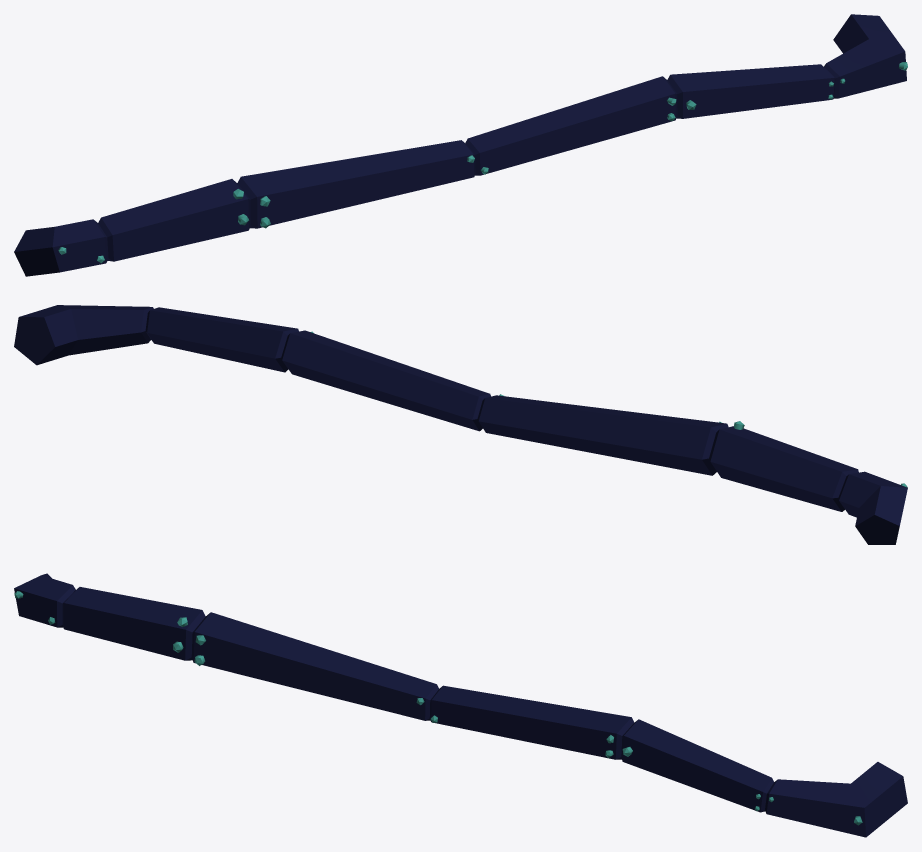
Rendered from MDL_Tuberia.FBX.
The picture shows the model from 3 angles, top to bottom: view 1: azimuth 30°, elevation 25°; view 2: azimuth 150°, elevation 25°; view 3: azimuth 330°, elevation 25°; orthographic projection.
Parts seen in each view (by area): view 1: Line002; view 2: Line002; view 3: Line002.
Part boxes in pixels (x1,y1,x2,y2): Line002: (14,14,907,276); Line002: (14,305,907,544); Line002: (14,573,907,837).
Bounding box in the file's own units: 464 × 37.75 × 53.67.
